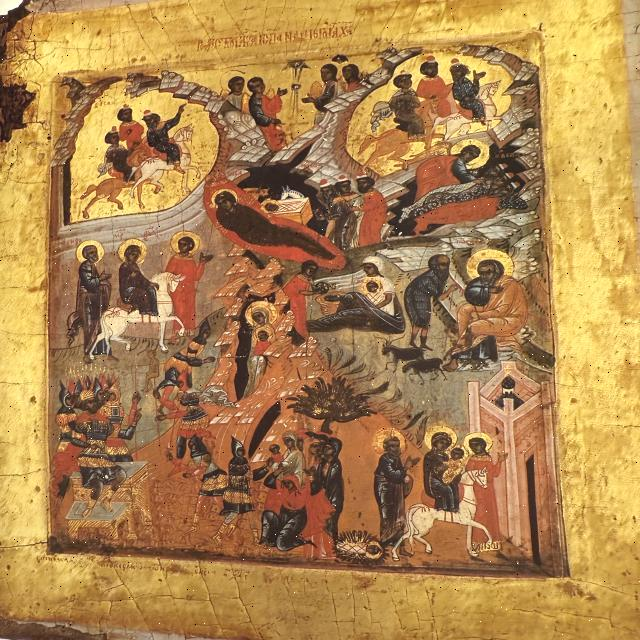aura: (468, 249, 517, 282), (367, 428, 411, 458), (455, 140, 488, 170), (424, 425, 456, 455), (75, 239, 109, 267), (170, 231, 205, 258), (243, 301, 279, 326), (118, 238, 151, 265), (462, 433, 494, 455), (211, 189, 239, 211)
horse: (391, 471, 501, 559), (89, 271, 190, 359)
